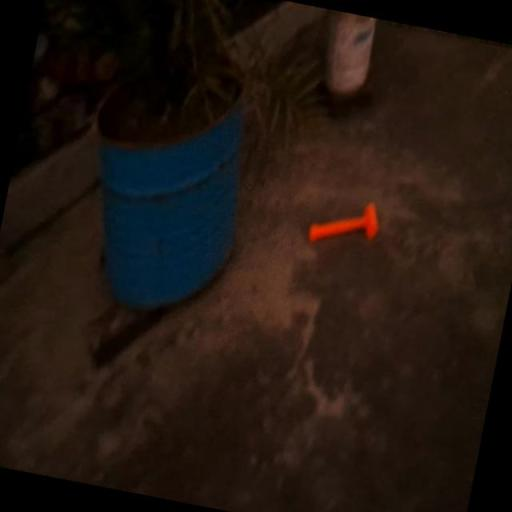mallet: (308, 192, 382, 255)
